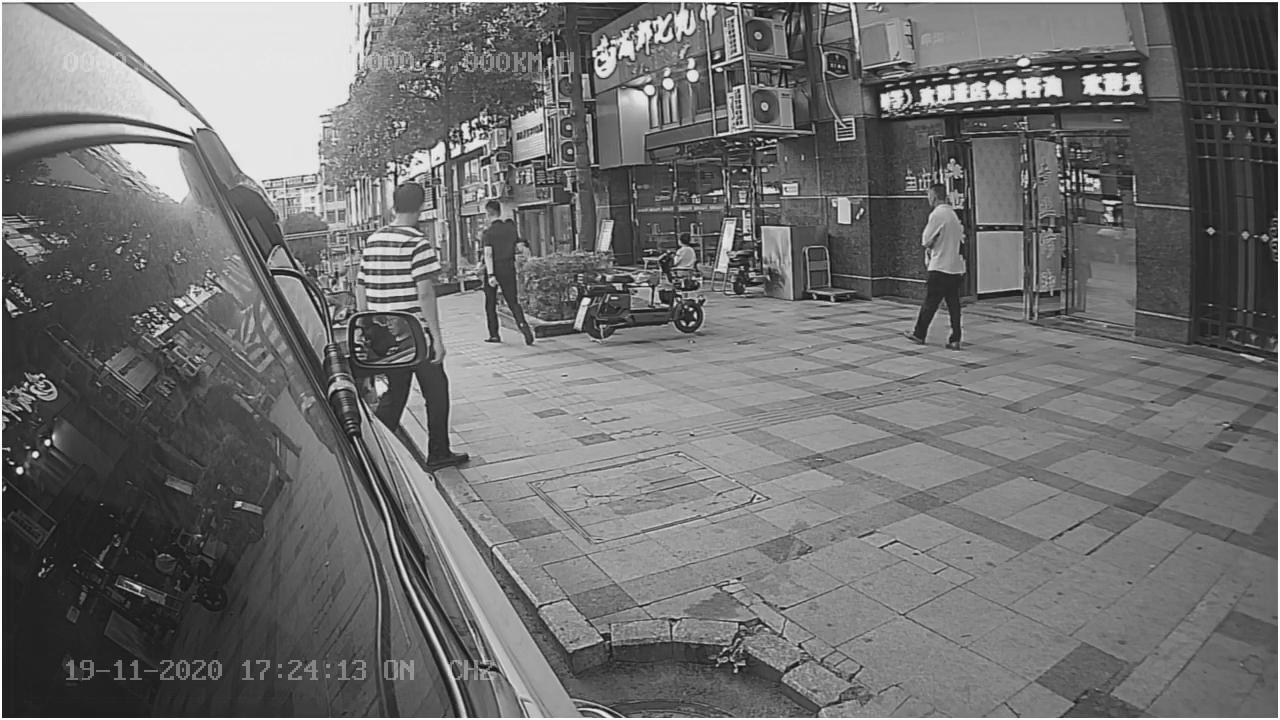person: (469, 196, 544, 352), (906, 183, 972, 359), (352, 175, 441, 302)
